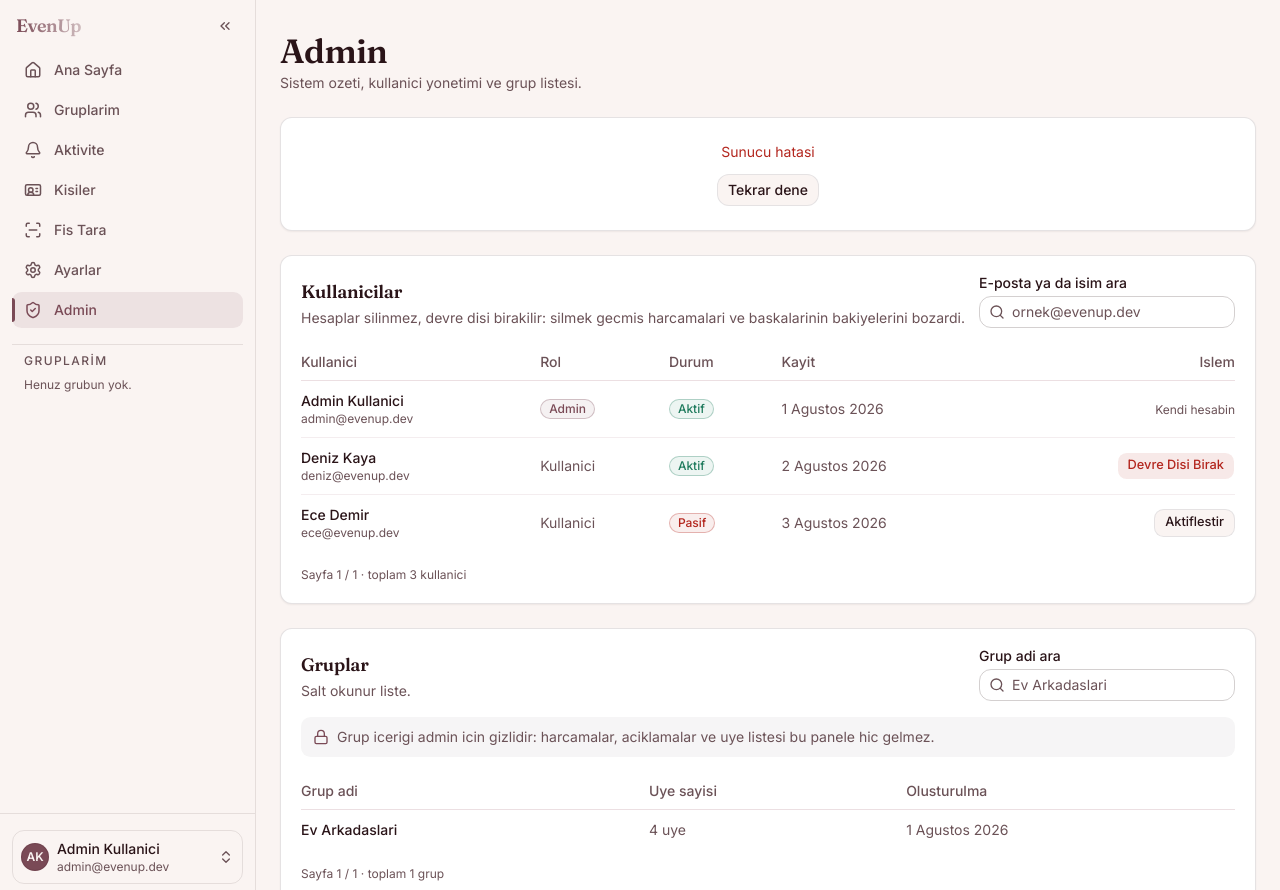
Test: ozet istatistik kartlari › hata durumunda tekrar dene istegi yeniler
Expected: the message "Sunucu hatasi Tekrar dene" is shown, [280, 117, 1256, 231]
Step 1. Click the button "Tekrar dene" → [768, 190], box [717, 174, 819, 206]
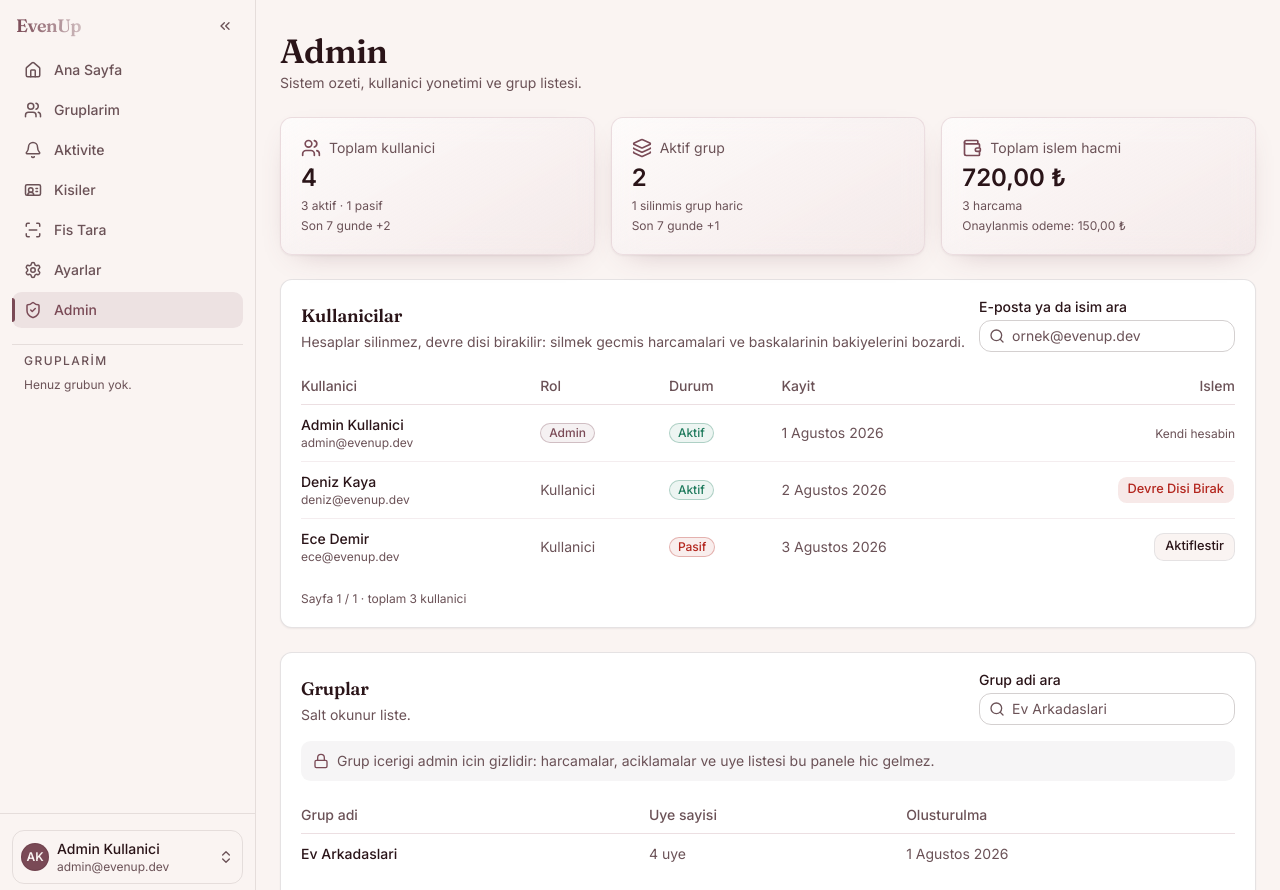
Now the text "Toplam kullanici" is shown, box [301, 138, 435, 158]
